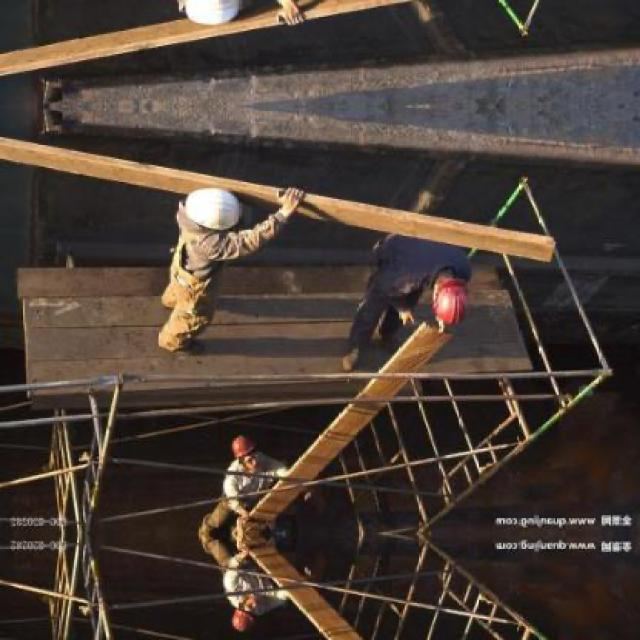con casco: (175, 174, 255, 272)
